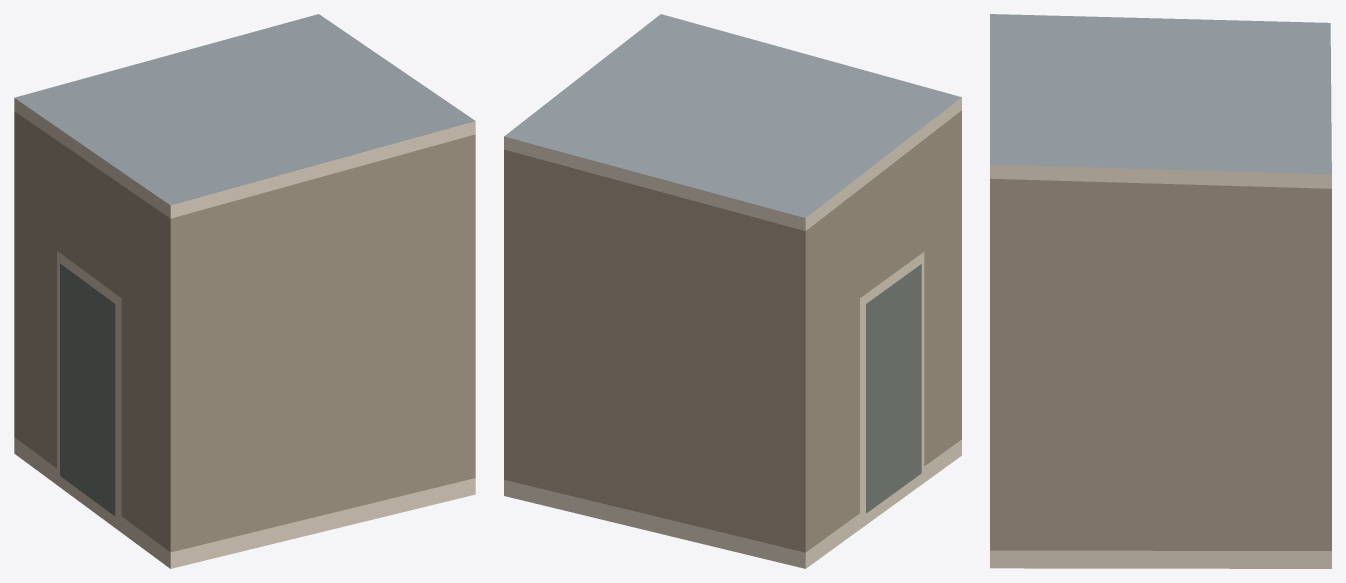
File: dc-au-reeves-field-hut.glb
The picture shows the model from 3 angles, left to right: view 1: azimuth 30°, elevation 25°; view 2: azimuth 150°, elevation 25°; view 3: azimuth 270°, elevation 25°; orthographic projection. The views are drawn at different scales.
Visible parts, largest first — view 1: Hut near Reeves Field; view 2: Hut near Reeves Field; view 3: Hut near Reeves Field.
Part boxes in pixels (x1,y1,x2,y2): Hut near Reeves Field: (14, 14, 475, 568); Hut near Reeves Field: (504, 14, 961, 568); Hut near Reeves Field: (990, 14, 1331, 568).
Bounding box in the file's own units: 2.98 × 3.39 × 2.6.
